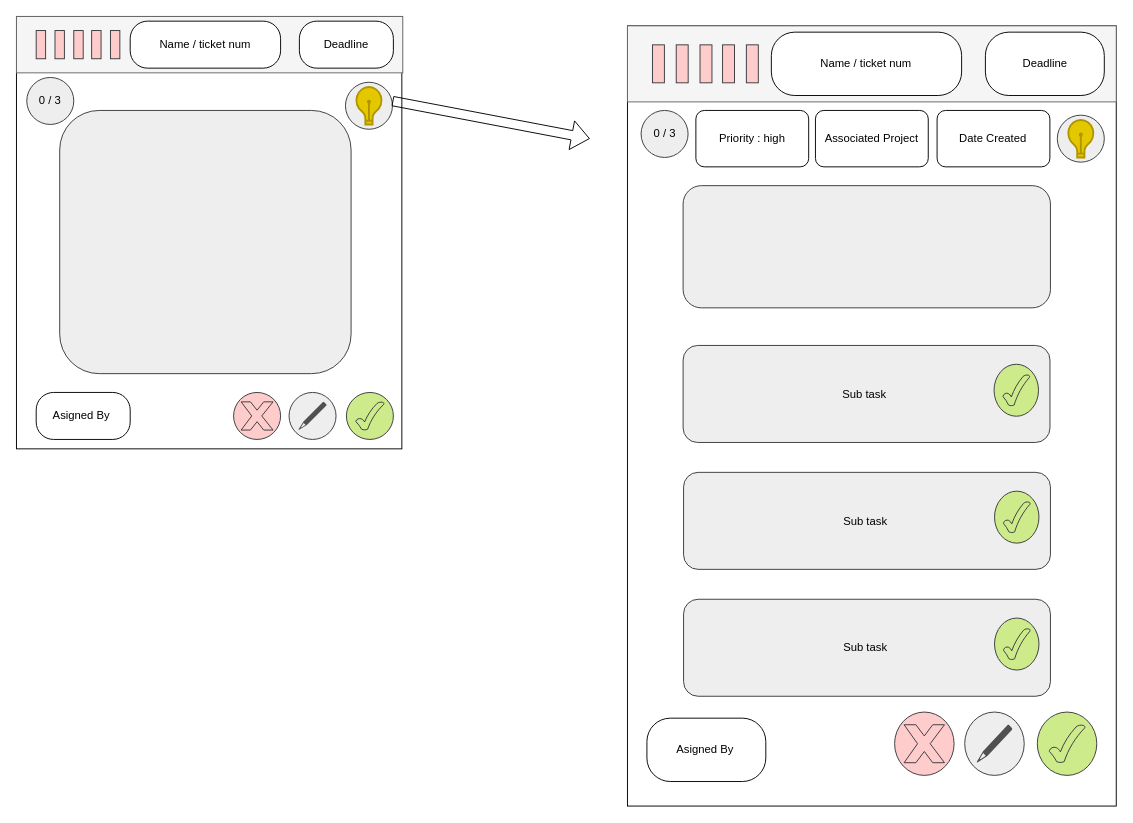
The diagram is 1133 pixels wide and 823 high, and some of its shapes have lost their labels. Each missing label, with the centre of its shape:
"Main text for feedback" belongs at (205,242).
"Main text sumary" belongs at (866,246).
